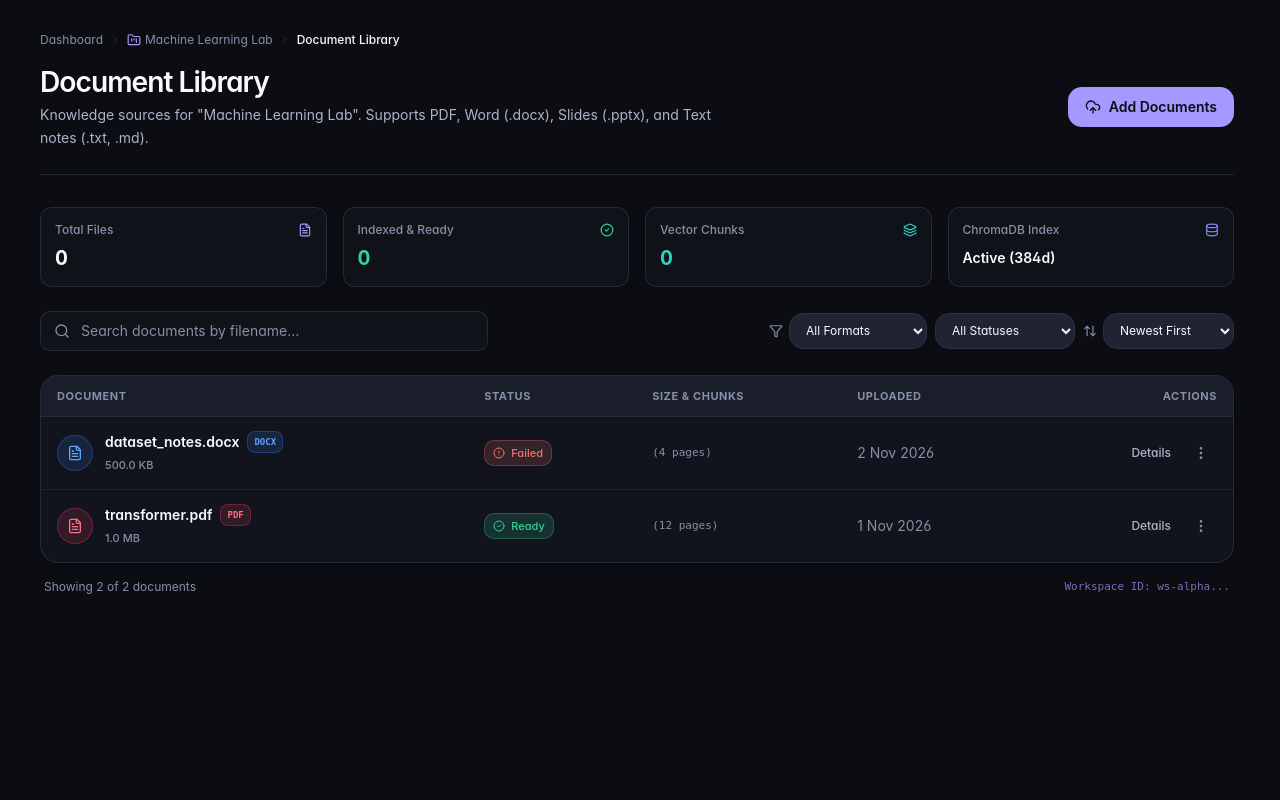
DocumentsPage Component › opens upload modal when clicking Upload Document button
Click the button "Add Documents".
click(1151, 107)  # box [1068, 87, 1234, 127]
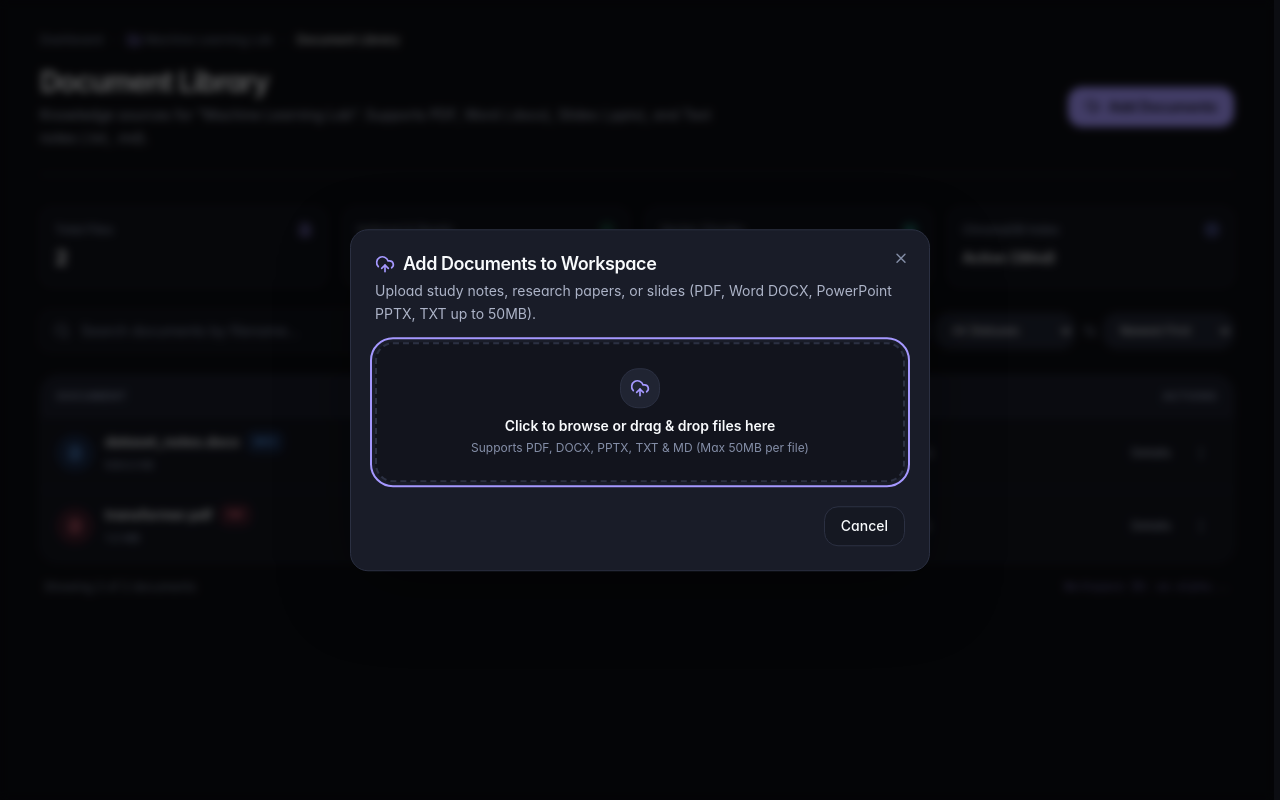
Now the text "Add Documents to Workspace" is shown, box [403, 255, 656, 273]
